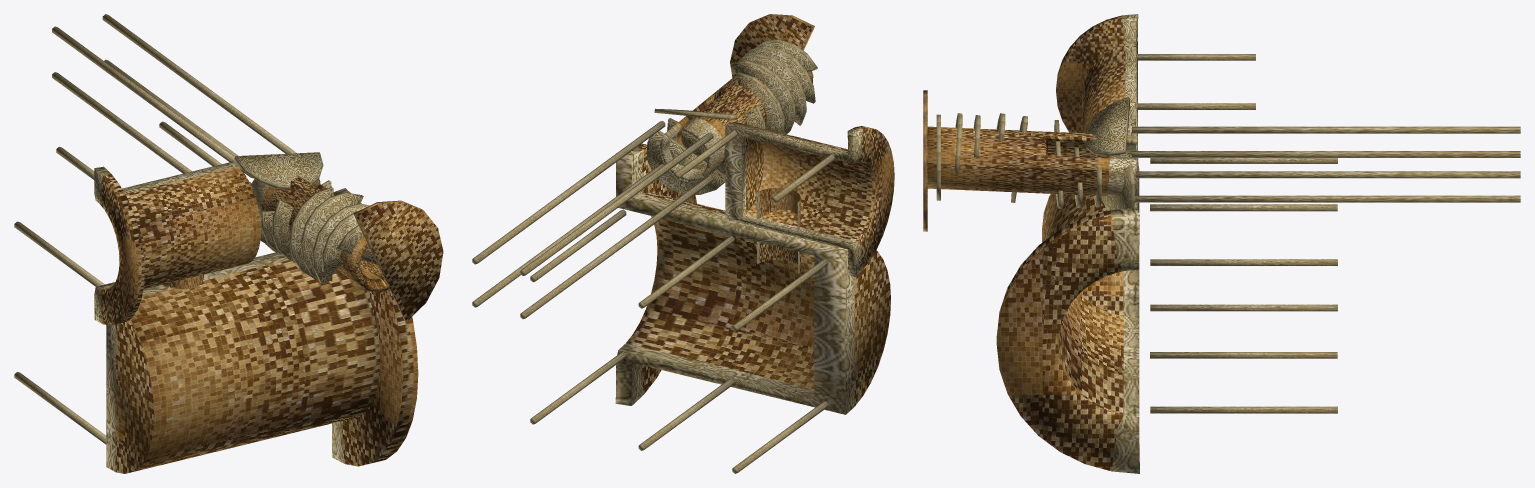
Rendered from barracks_000054.obj.
3 views of the same model, side by side, from view 1: azimuth 30°, elevation 25°; view 2: azimuth 150°, elevation 25°; view 3: azimuth 270°, elevation 25° (orthographic). The views are drawn at different scales.
Parts seen in each view (by area): view 1: Cylinder.001_Cylinder.000, Cylinder_Cylinder.003, stair.009_Cylinder.028, Cylinder.010_Cylinder.018, stair.004_Cylinder.033, Cylinder.012_Cylinder.009, Cylinder.011_Cylinder.008, stair.002_Cylinder.031, Cylinder.009_Cylinder.007, stair.003_Cylinder.032, stair.001_Cylinder.030, stair.000_Cylinder.029 (+6 smaller); view 2: Cylinder.001_Cylinder.000, Cylinder_Cylinder.003, Cylinder.010_Cylinder.018, stair.009_Cylinder.028, Cylinder.012_Cylinder.009, Cylinder.009_Cylinder.007, Cylinder.011_Cylinder.008, Cylinder.002_Cylinder.042, stair.010_Cylinder.037, stair.002_Cylinder.031, stair.001_Cylinder.030, stair.003_Cylinder.032 (+12 smaller); view 3: Cylinder.001_Cylinder.000, Cylinder.010_Cylinder.018, Cylinder_Cylinder.003, Cylinder.011_Cylinder.008, Cylinder.013_Cylinder.010, Cylinder.009_Cylinder.007, Cylinder.012_Cylinder.009, stair.004_Cylinder.033, Cylinder.014_Cylinder.011, Cylinder.004_Cylinder.001, Cylinder.003_Cylinder, Cylinder.015_Cylinder.012 (+6 smaller).
Part boxes in pixels (bbox=[...]): Cylinder.001_Cylinder.000: bbox=[106, 188, 418, 473]; Cylinder_Cylinder.003: bbox=[94, 161, 260, 325]; stair.009_Cylinder.028: bbox=[353, 200, 443, 321]; Cylinder.010_Cylinder.018: bbox=[251, 176, 390, 292]; stair.004_Cylinder.033: bbox=[234, 152, 323, 189]; Cylinder.012_Cylinder.009: bbox=[102, 14, 296, 153]; Cylinder.011_Cylinder.008: bbox=[52, 26, 252, 178]; stair.002_Cylinder.031: bbox=[300, 192, 363, 283]; Cylinder.009_Cylinder.007: bbox=[52, 72, 191, 173]; stair.003_Cylinder.032: bbox=[289, 187, 333, 281]; stair.001_Cylinder.030: bbox=[312, 203, 369, 283]; stair.000_Cylinder.029: bbox=[322, 211, 358, 272]; Cylinder.001_Cylinder.000: bbox=[615, 143, 890, 414]; Cylinder_Cylinder.003: bbox=[725, 122, 894, 276]; Cylinder.010_Cylinder.018: bbox=[660, 71, 813, 182]; stair.009_Cylinder.028: bbox=[730, 14, 814, 77]; Cylinder.012_Cylinder.009: bbox=[472, 121, 665, 264]; Cylinder.009_Cylinder.007: bbox=[520, 175, 713, 319]; Cylinder.011_Cylinder.008: bbox=[520, 132, 713, 275]; Cylinder.002_Cylinder.042: bbox=[756, 187, 801, 273]; stair.010_Cylinder.037: bbox=[647, 130, 725, 194]; stair.002_Cylinder.031: bbox=[731, 61, 795, 134]; stair.001_Cylinder.030: bbox=[731, 54, 806, 125]; stair.003_Cylinder.032: bbox=[736, 72, 784, 133]; Cylinder.001_Cylinder.000: bbox=[996, 161, 1139, 473]; Cylinder.010_Cylinder.018: bbox=[927, 126, 1137, 196]; Cylinder_Cylinder.003: bbox=[1056, 14, 1138, 202]; Cylinder.011_Cylinder.008: bbox=[1132, 126, 1520, 133]; Cylinder.013_Cylinder.010: bbox=[1135, 195, 1520, 202]; Cylinder.009_Cylinder.007: bbox=[1136, 171, 1520, 178]; Cylinder.012_Cylinder.009: bbox=[1132, 151, 1520, 157]; stair.004_Cylinder.033: bbox=[1084, 96, 1130, 156]; Cylinder.014_Cylinder.011: bbox=[1150, 204, 1337, 211]; Cylinder.004_Cylinder.001: bbox=[1150, 304, 1337, 311]; Cylinder.003_Cylinder: bbox=[1150, 406, 1337, 413]; Cylinder.015_Cylinder.012: bbox=[1150, 352, 1337, 358].
Size of the model in its own units: 12.66 by 16.72 by 26.52.
